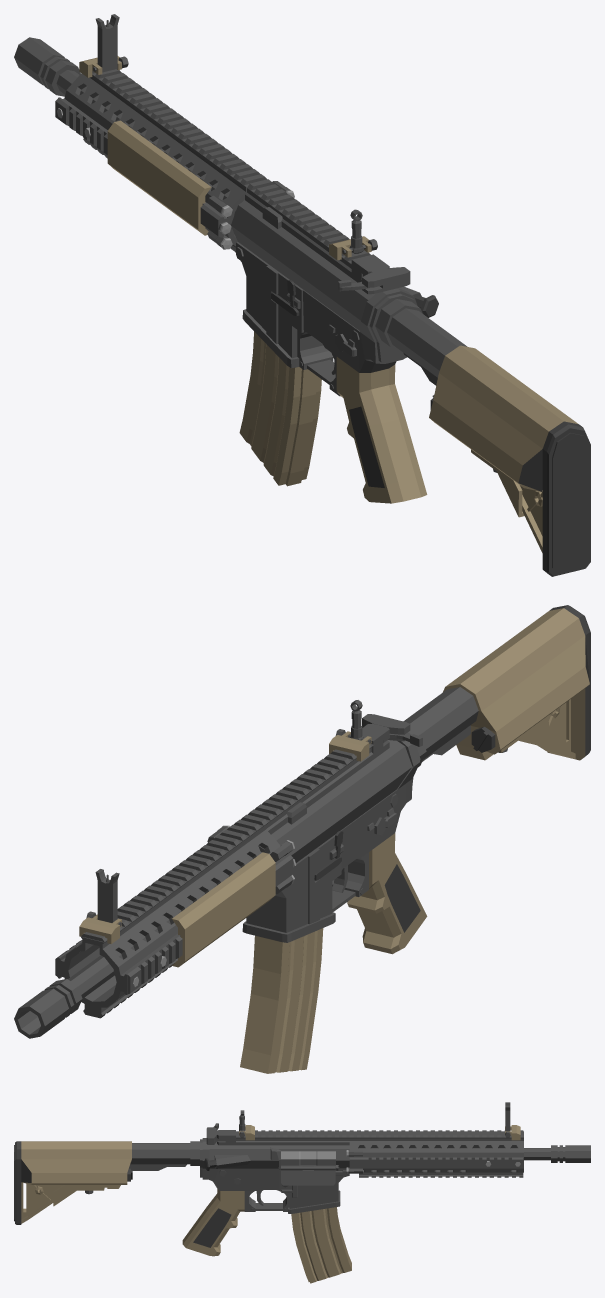
3 views of the same model, one above another, from view 1: azimuth 30°, elevation 25°; view 2: azimuth 150°, elevation 25°; view 3: azimuth 270°, elevation 25° (orthographic). The views are drawn at different scales.
Visible parts, largest first — view 1: M4A1, Stock, Magazine, Front Sight, ChargingHandle, Rear Sight; view 2: M4A1, Stock, Magazine, Front Sight, Rear Sight, ChargingHandle; view 3: M4A1, Stock, Magazine, Bolt, Front Sight, Rear Sight.
Boxes of the visible parts, <box> form: M4A1: <box>14,37,467,503</box>; Stock: <box>429,345,590,576</box>; Magazine: <box>239,331,321,486</box>; Front Sight: <box>79,14,128,77</box>; ChargingHandle: <box>338,267,410,294</box>; Rear Sight: <box>329,209,377,260</box>; M4A1: <box>14,687,478,1038</box>; Stock: <box>443,605,590,760</box>; Magazine: <box>240,928,323,1073</box>; Front Sight: <box>79,869,121,943</box>; Rear Sight: <box>329,700,371,761</box>; ChargingHandle: <box>362,714,422,746</box>; M4A1: <box>129,1130,590,1256</box>; Stock: <box>14,1141,132,1224</box>; Magazine: <box>291,1207,351,1283</box>; Bolt: <box>281,1151,335,1165</box>; Front Sight: <box>505,1102,520,1140</box>; Rear Sight: <box>239,1110,254,1140</box>.
Size of the model in its own units: 7.58 by 25.82 by 76.84.
